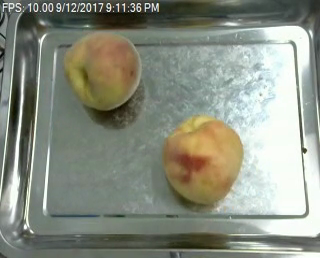Peach: (163, 113, 243, 204), (62, 31, 142, 110)
